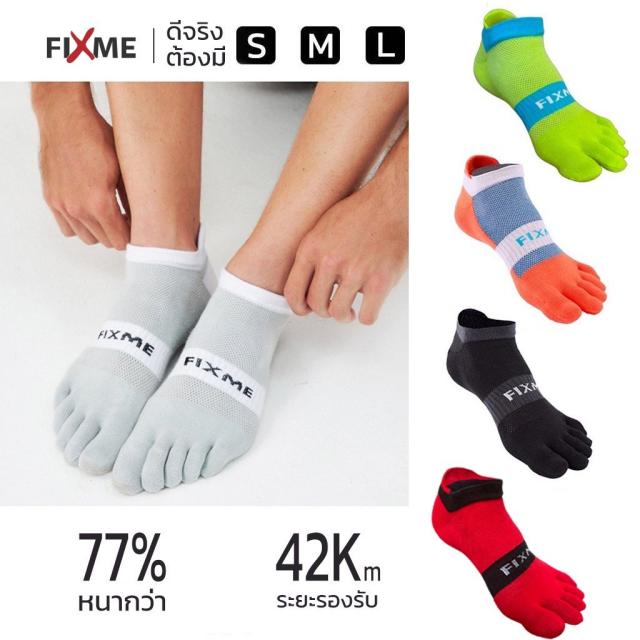sock: (111, 266, 292, 495), (472, 8, 628, 182), (430, 466, 586, 639), (454, 154, 606, 324), (446, 307, 592, 478)
